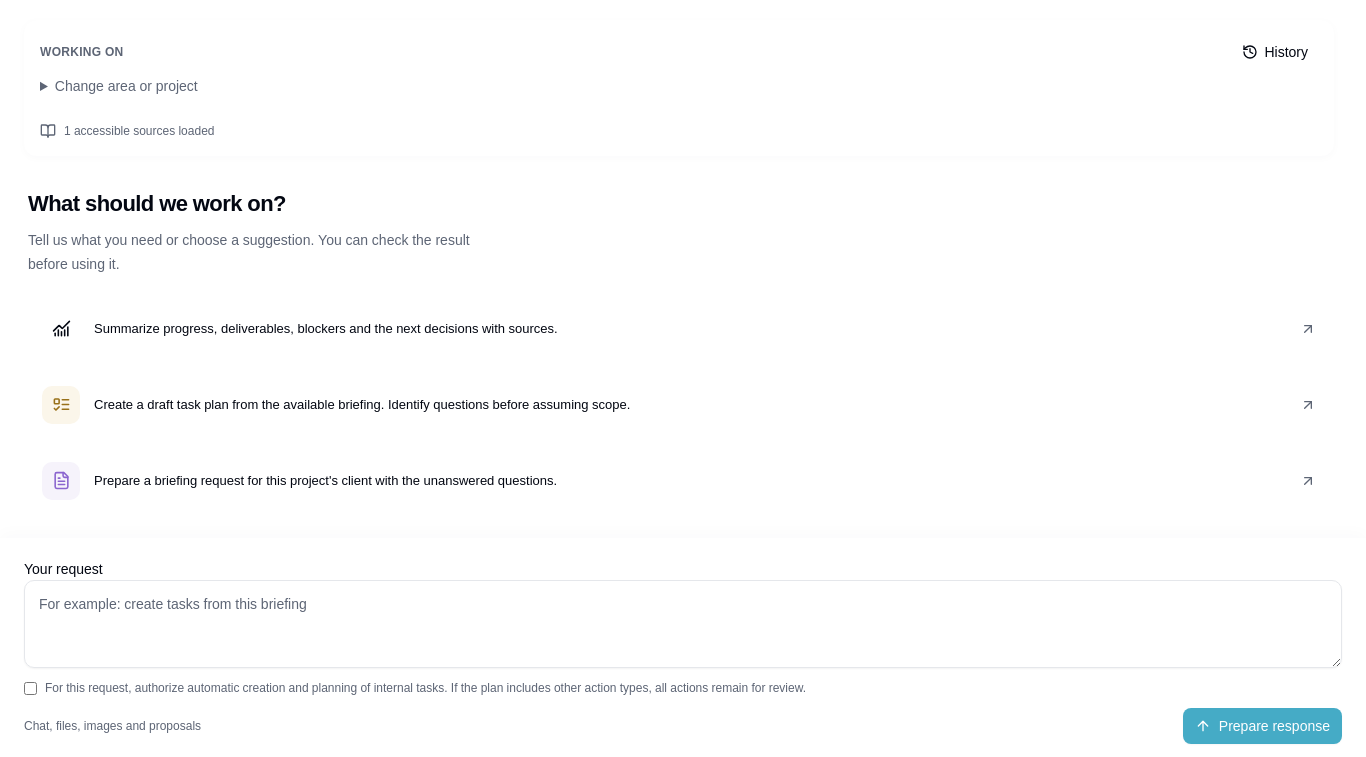
Test case: generation defaults to review and execution requires selection plus confirmation
Expected: the text "1 accessible sources loaded" is shown, [40,122,214,139]
Type "Create a review task" into the text box labelled "Your request".
click(683, 624); type("Create a review task")  # box [24,580,1342,668]
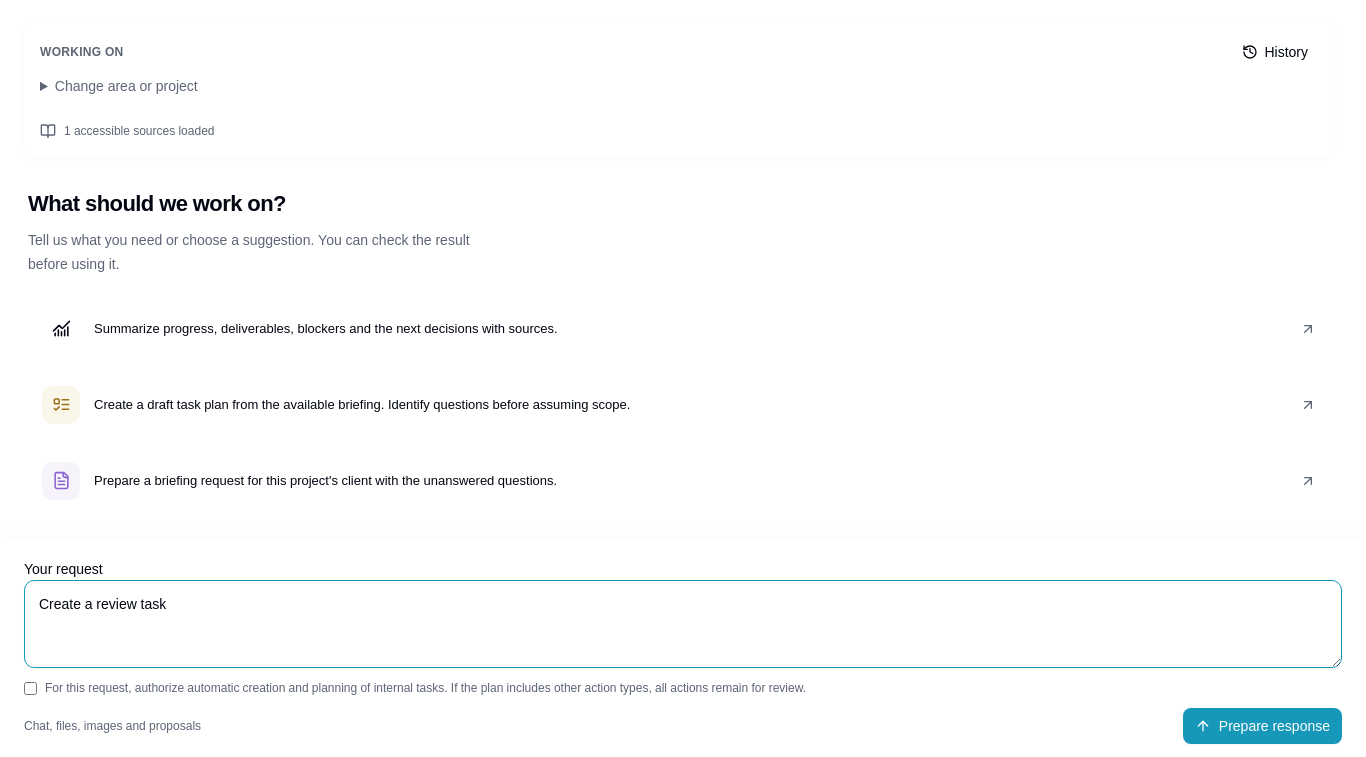
Click the button "Prepare response".
click(1262, 726)  # box [1183,708,1342,744]
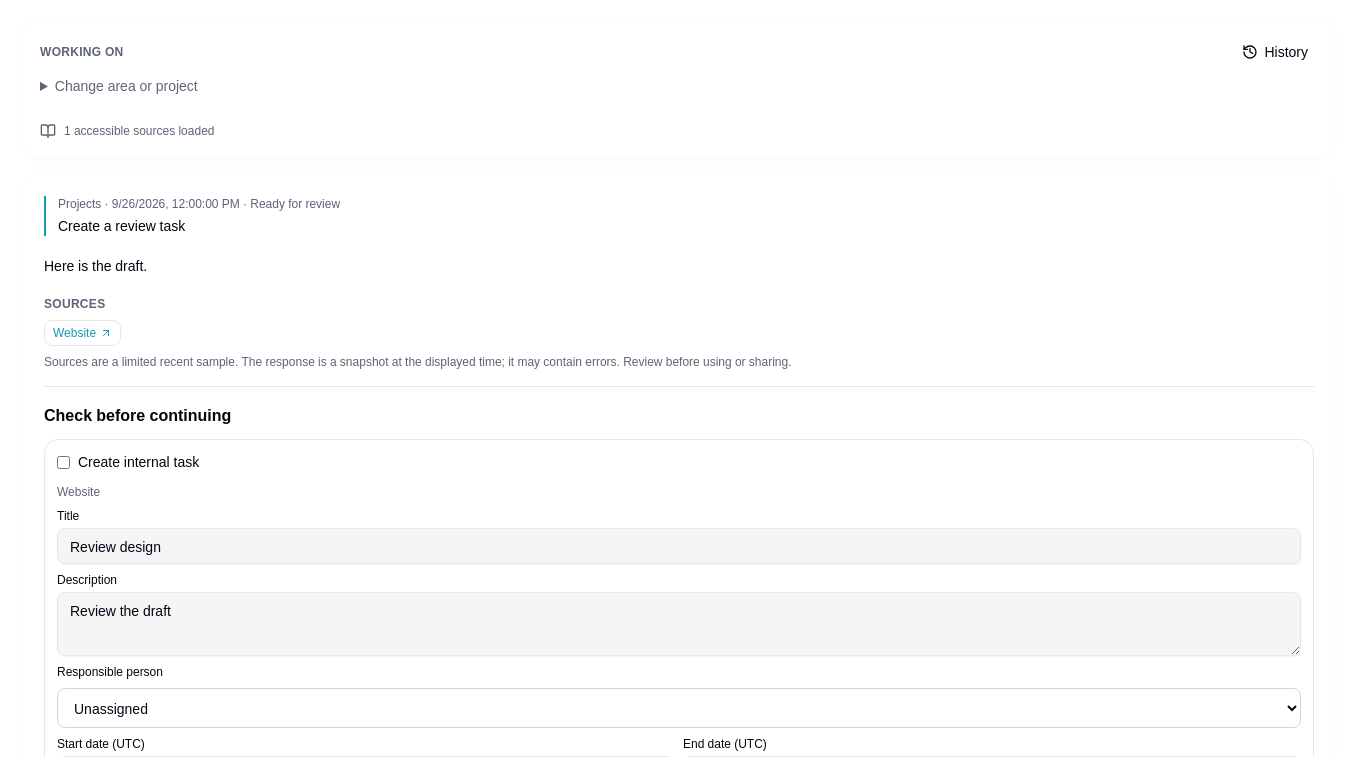
Result: the text "Here is the draft." is shown at [44,256,147,275]
Click the checkbox labelled "Create internal task".
click(64, 462)  # box [57,456,70,468]
(page scrolled)
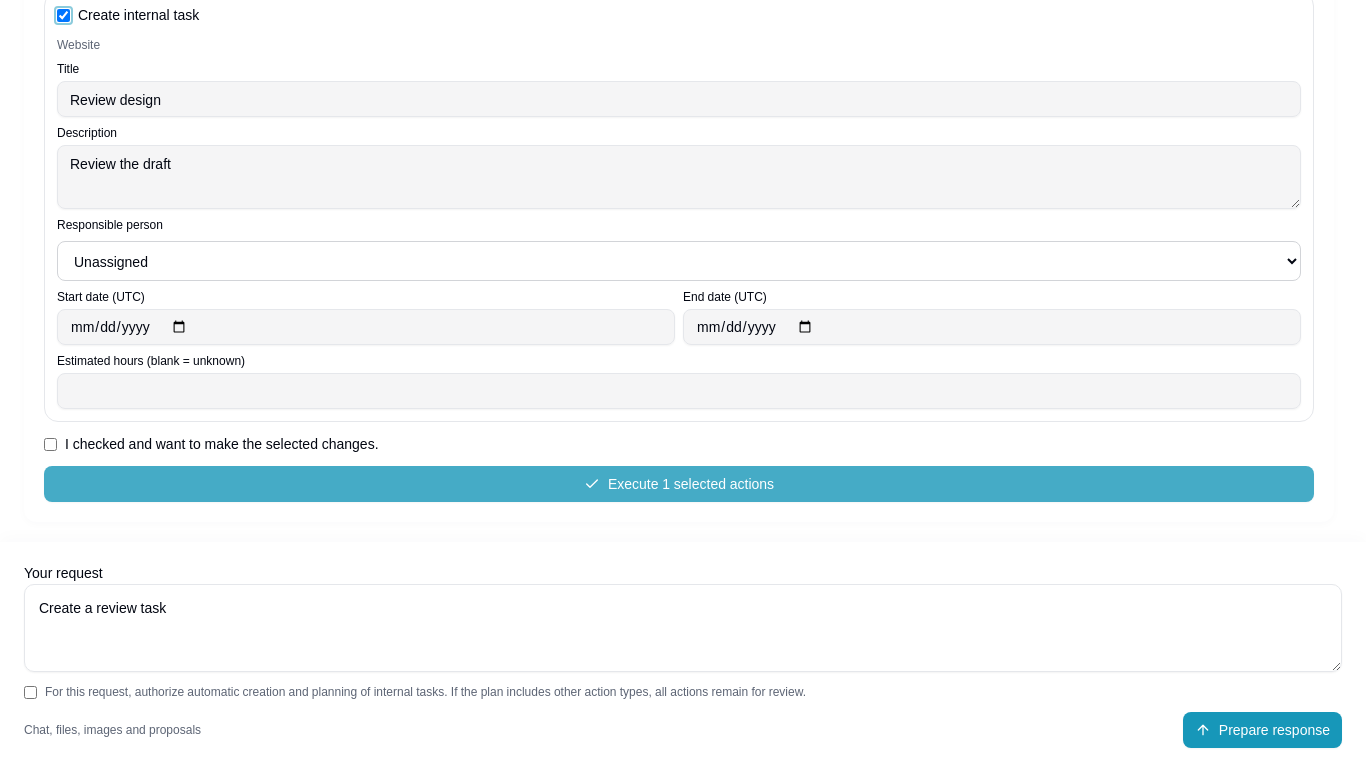
Result: the button "Execute 1 selected actions" is disabled at [44,466,1314,502]
Click the checkbox labelled "I checked and want to make the selected changes.".
click(50, 444)  # box [44,438,57,451]
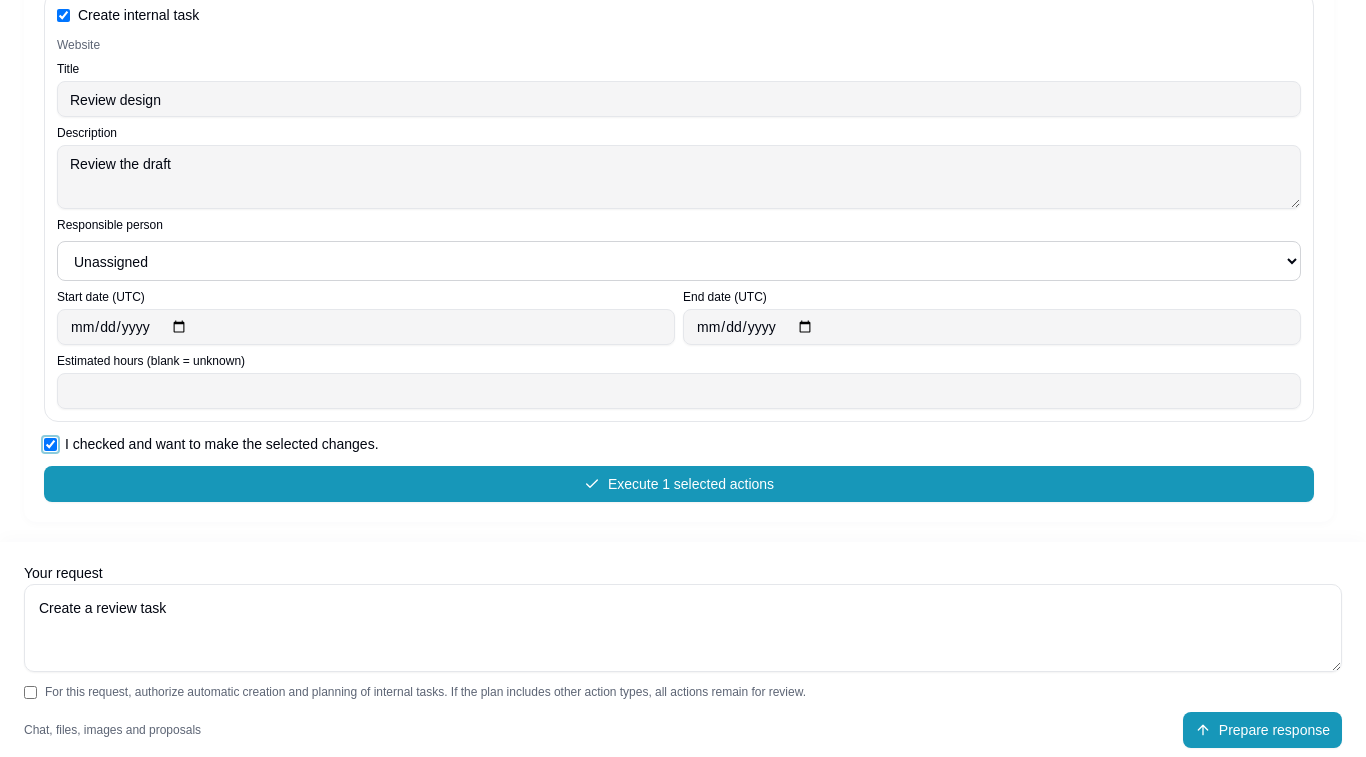
Click the button "Execute 1 selected actions".
click(679, 484)  # box [44,466,1314,502]
(page scrolled)
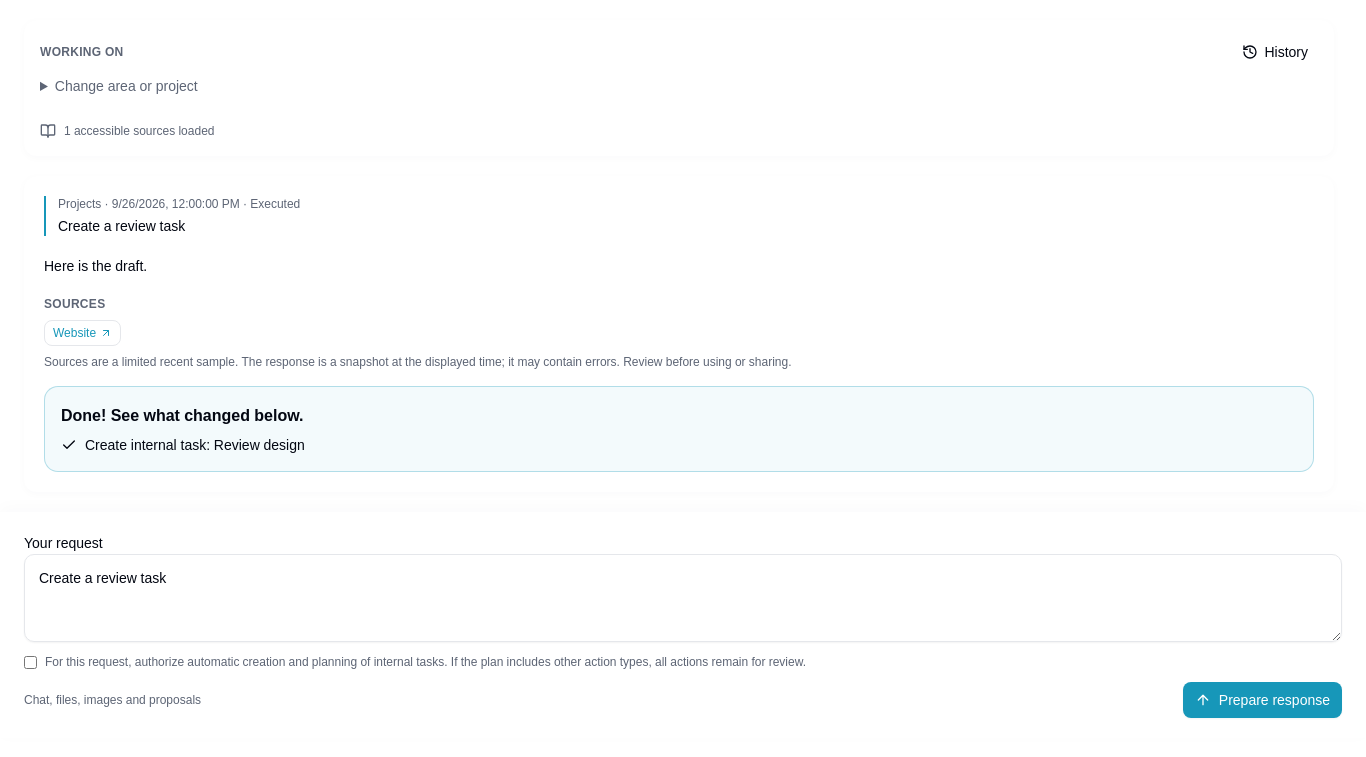
Result: the heading "Done! See what changed below." is shown at [61,404,304,426]
